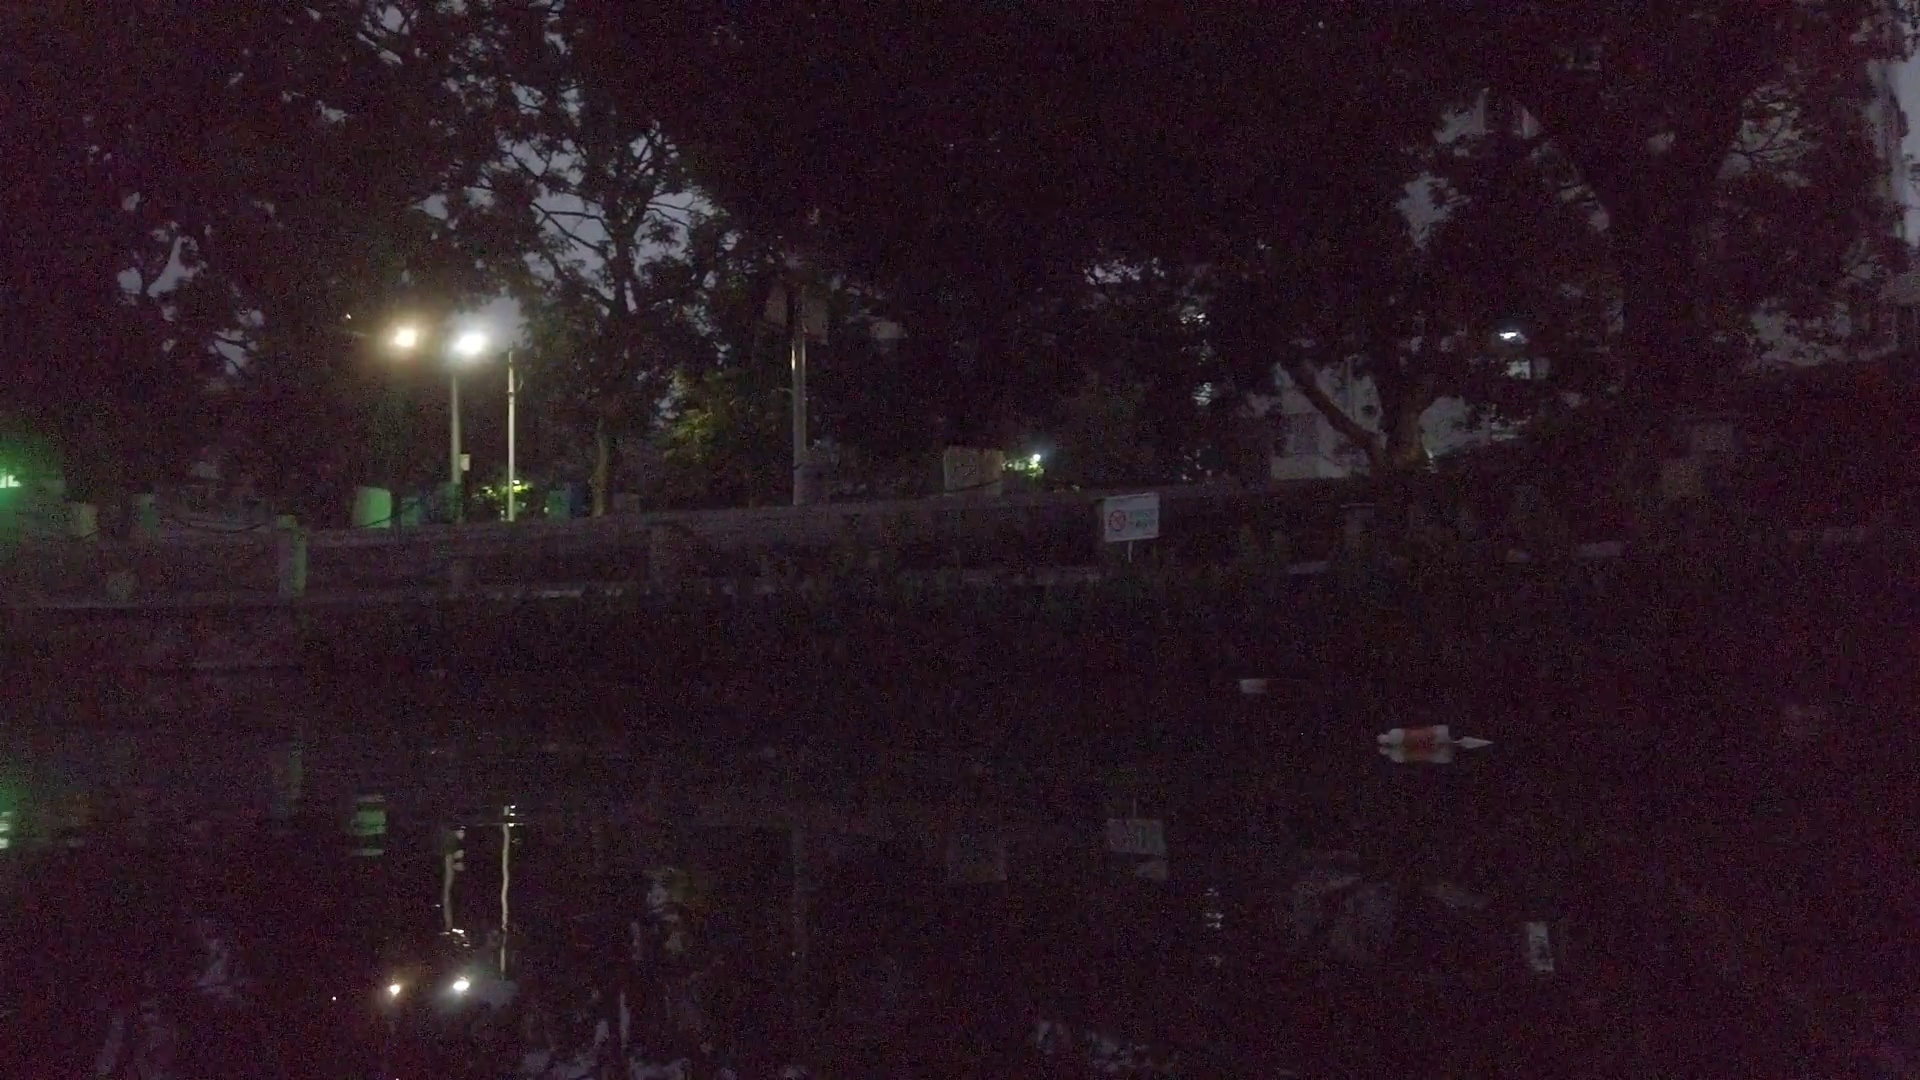bottle: (1378, 723, 1451, 749), (1782, 707, 1837, 729)
carton: (1240, 676, 1263, 688)
